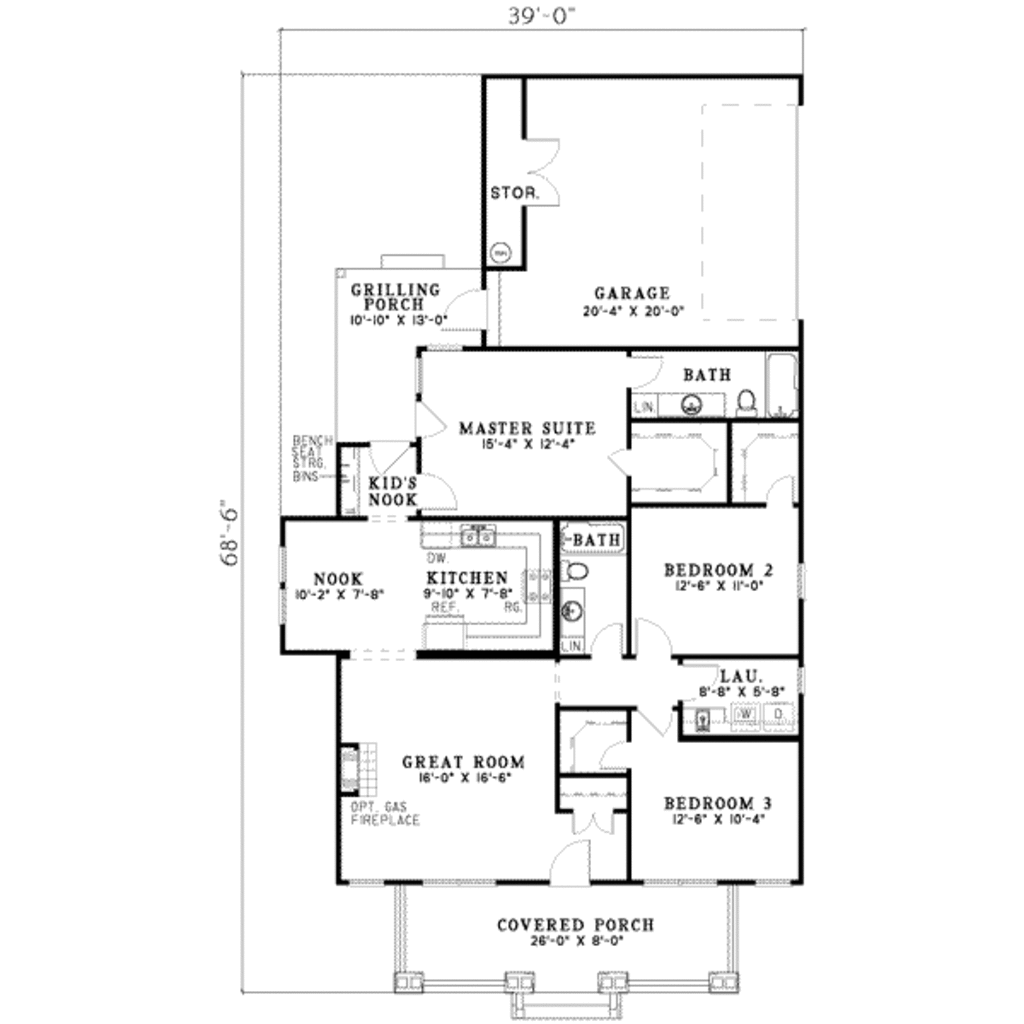door: (430, 284, 503, 333), (541, 835, 602, 893), (624, 612, 681, 658), (521, 135, 559, 201), (364, 439, 421, 478), (565, 803, 624, 839), (678, 654, 724, 700), (587, 620, 633, 660), (627, 346, 667, 392), (756, 466, 798, 509), (629, 706, 673, 744), (600, 441, 638, 481), (413, 400, 451, 439)
dow: (410, 874, 503, 884)
large_sink: (556, 554, 594, 585), (735, 384, 760, 420)
small_sink: (659, 385, 716, 420), (551, 597, 587, 625)
tub: (756, 351, 795, 420), (559, 514, 622, 554)
twin_sink: (460, 517, 511, 557)
window: (273, 538, 294, 632), (641, 874, 722, 893), (338, 870, 389, 898), (752, 870, 802, 893), (791, 560, 813, 612)
